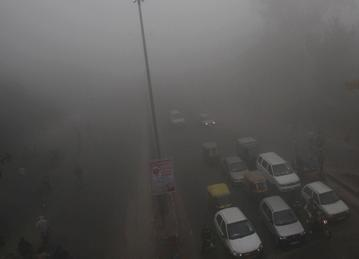car: (212, 206, 265, 259), (258, 195, 305, 247), (302, 180, 350, 222), (255, 150, 301, 191), (222, 154, 248, 186), (166, 108, 185, 128)
